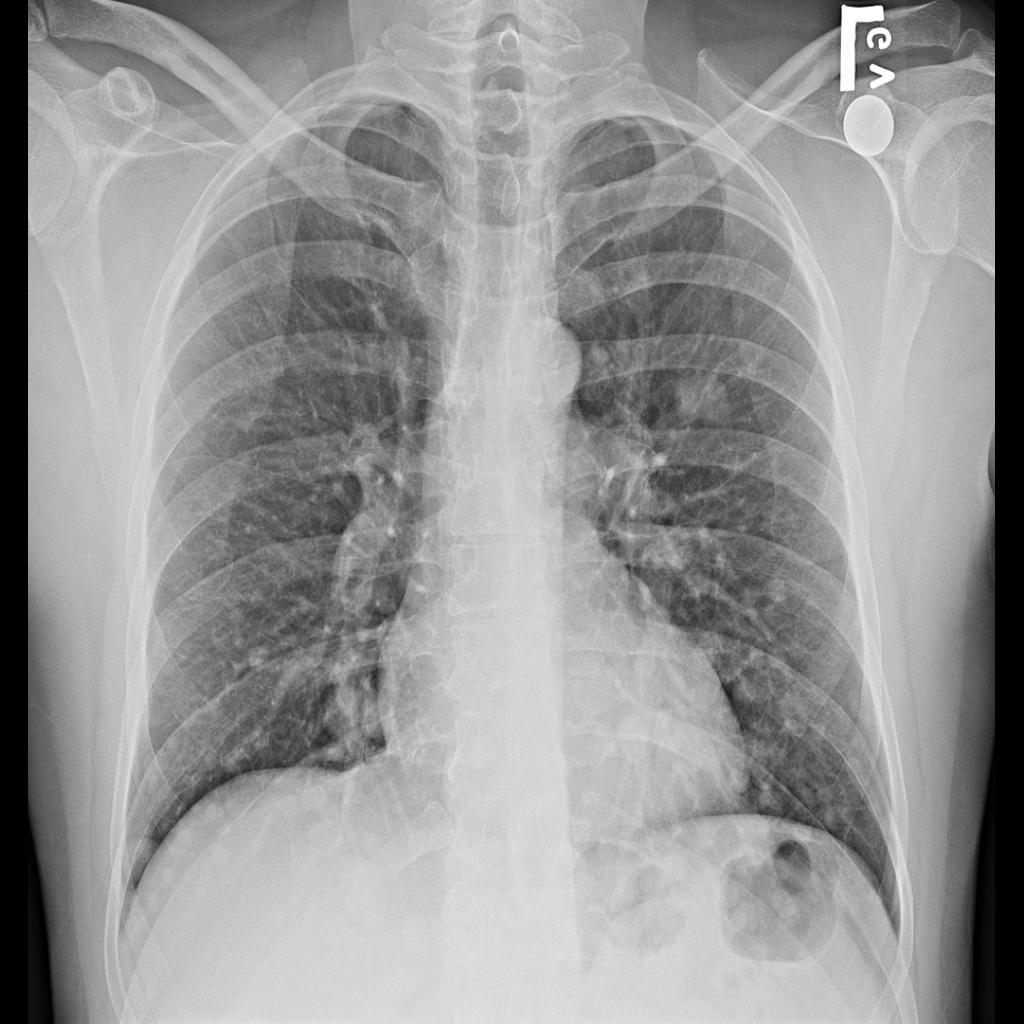Nodule: (676, 372, 734, 432)
